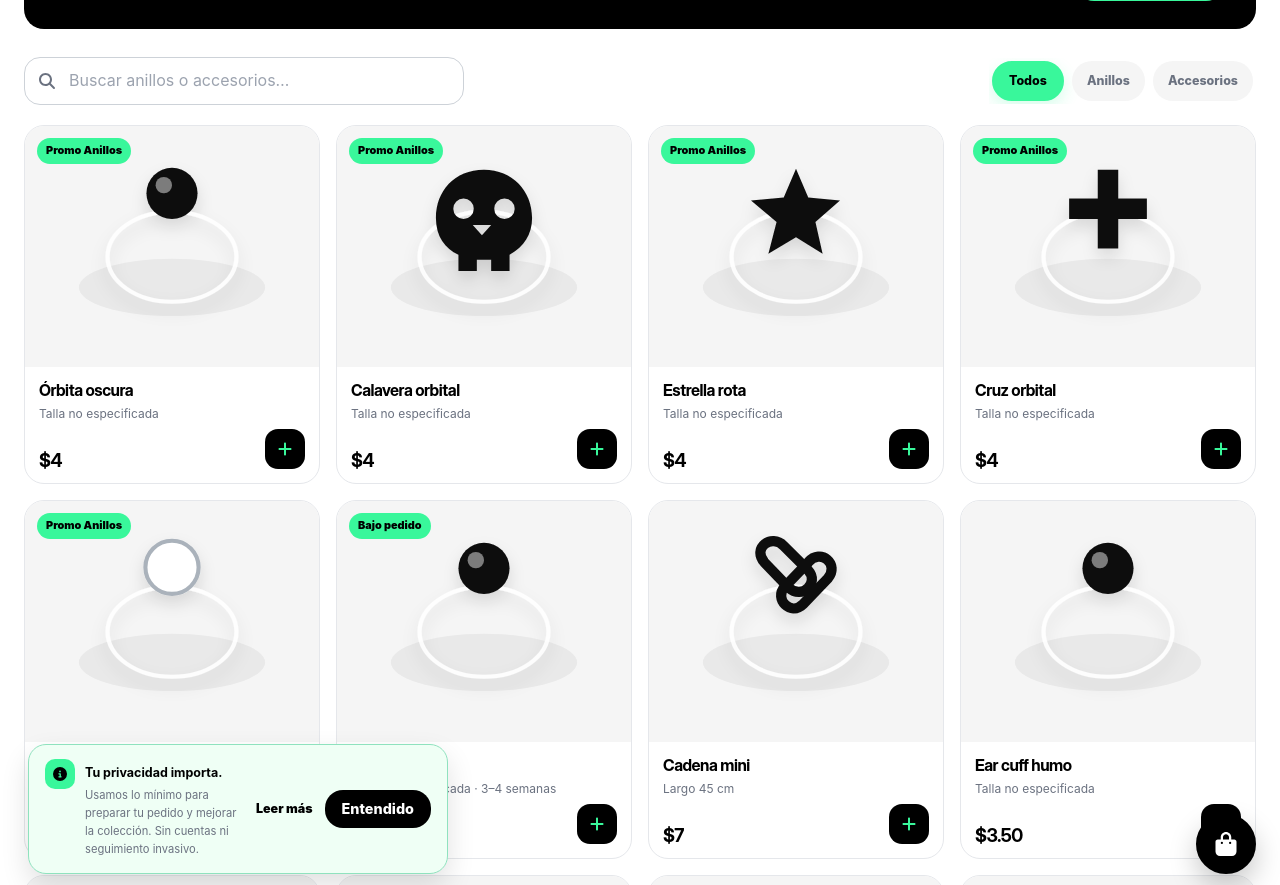
Test: Store › adds three eligible rings and shows the bundle total without a size selector
This screenshot has width=1280, height=885.
(page scrolled)
Click the button named "agregar órbita oscura" at point(285, 449), box [265,429,305,469]
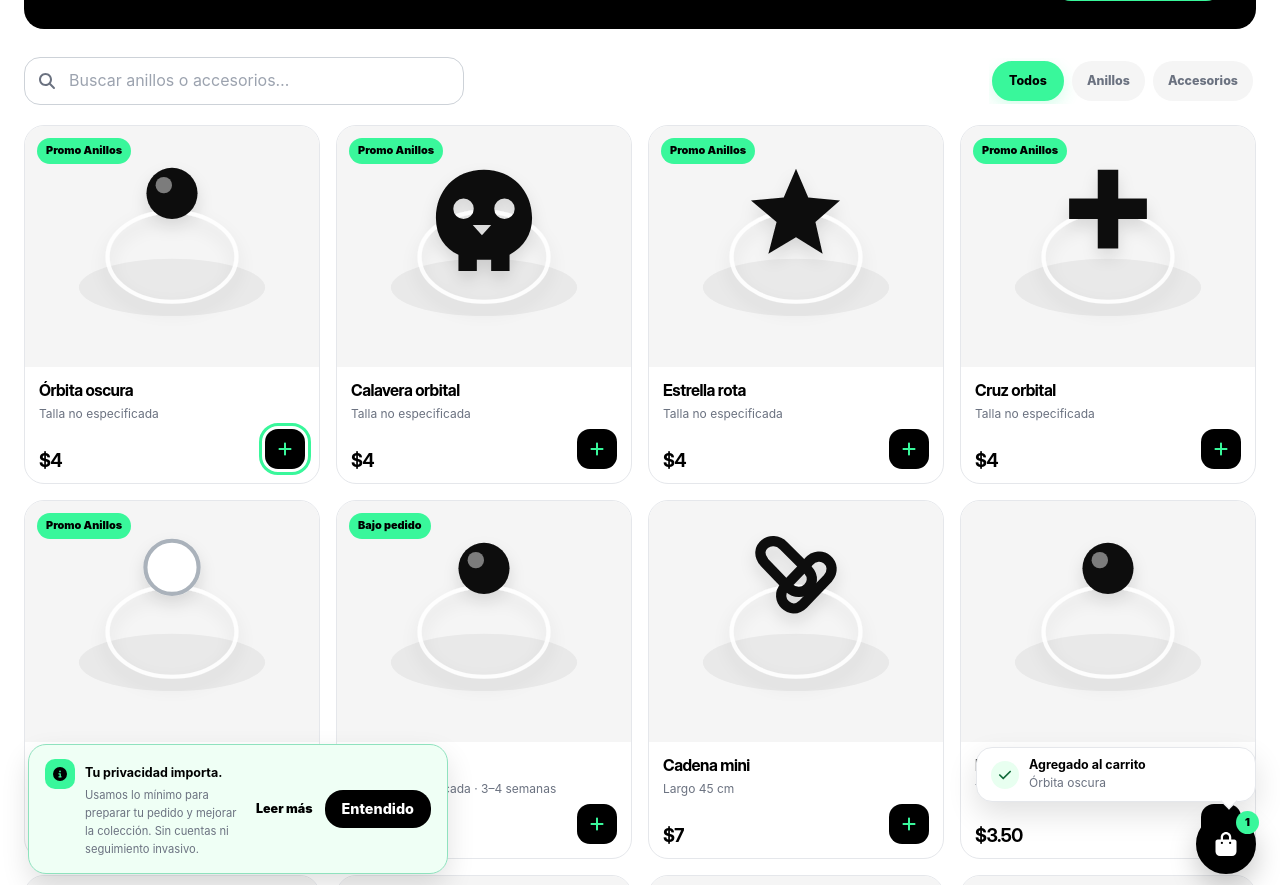
Click the button named "agregar calavera orbital" at point(597, 449), box [577,429,617,469]
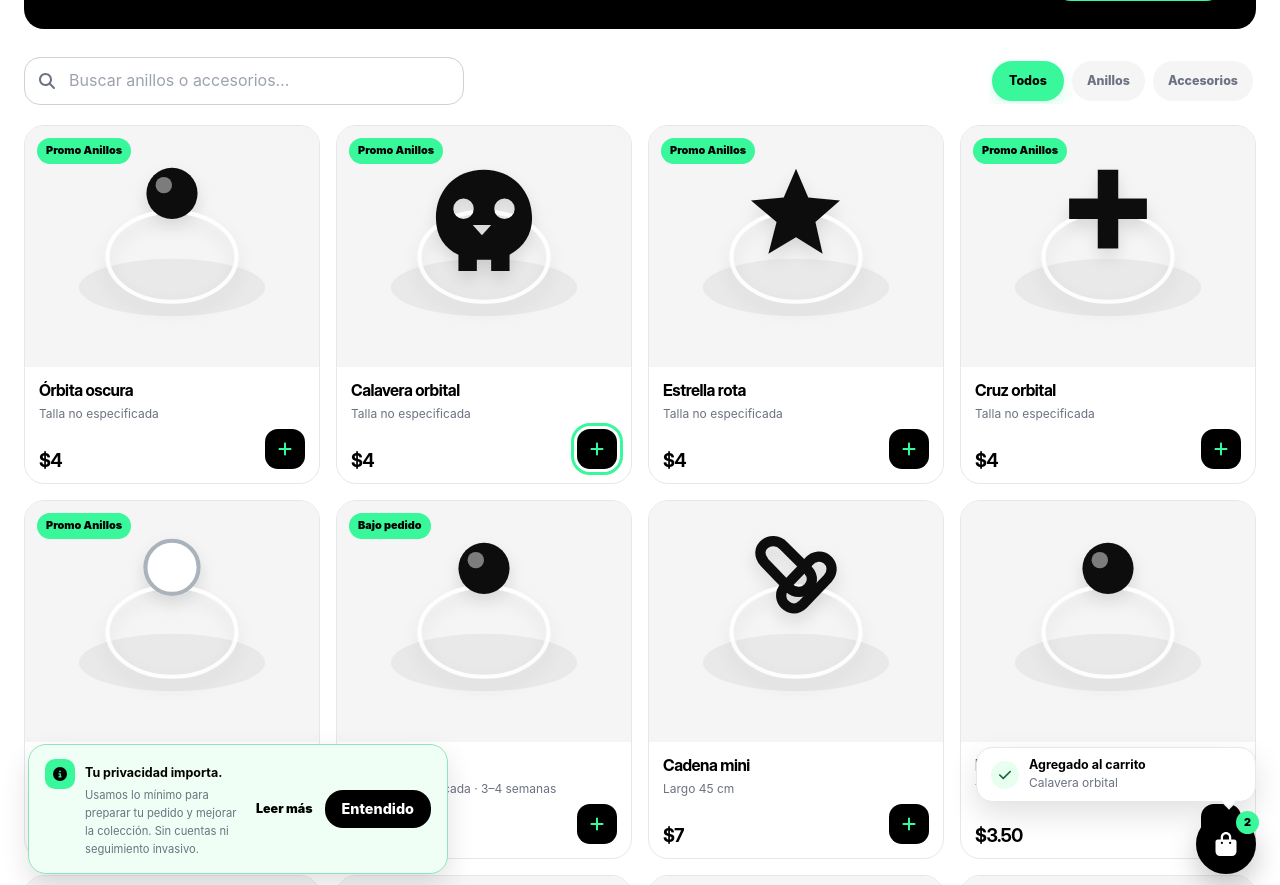
Click the button named "agregar estrella rota" at point(909, 449), box [889,429,929,469]
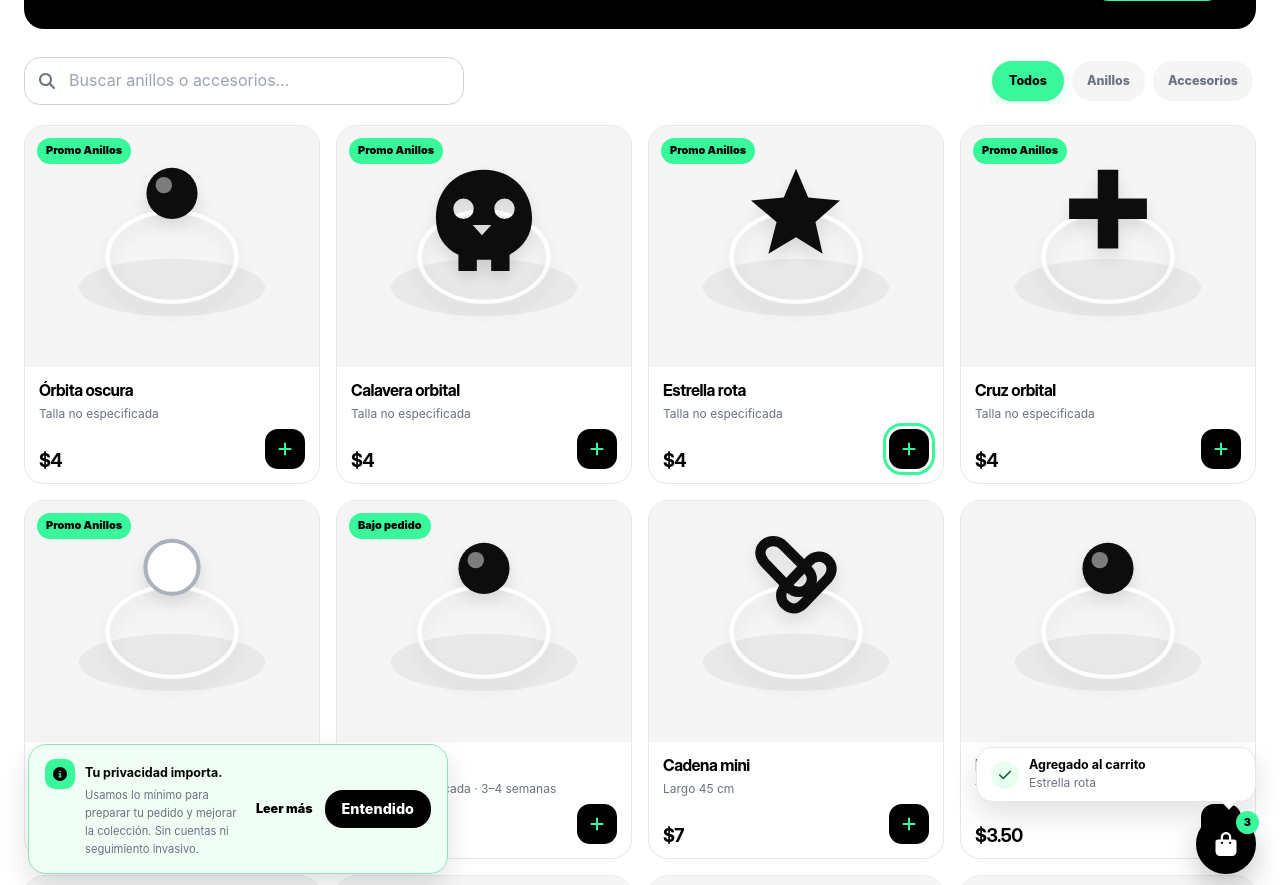
Click the button named "Abrir carrito, 3 productos" at point(1226, 844), box [1196,814,1256,874]
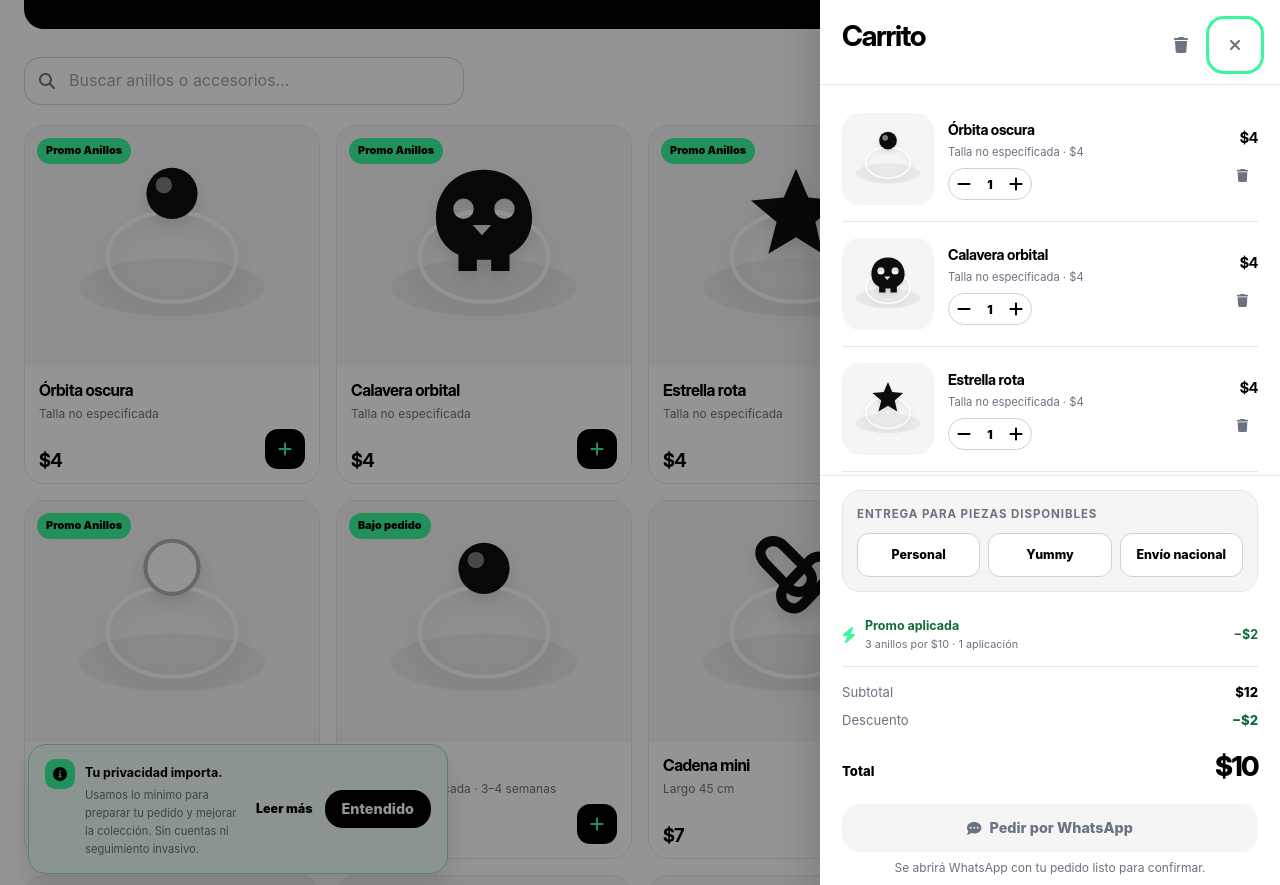
Check: the text "$10" is shown, box [1215,745,1258,789]
